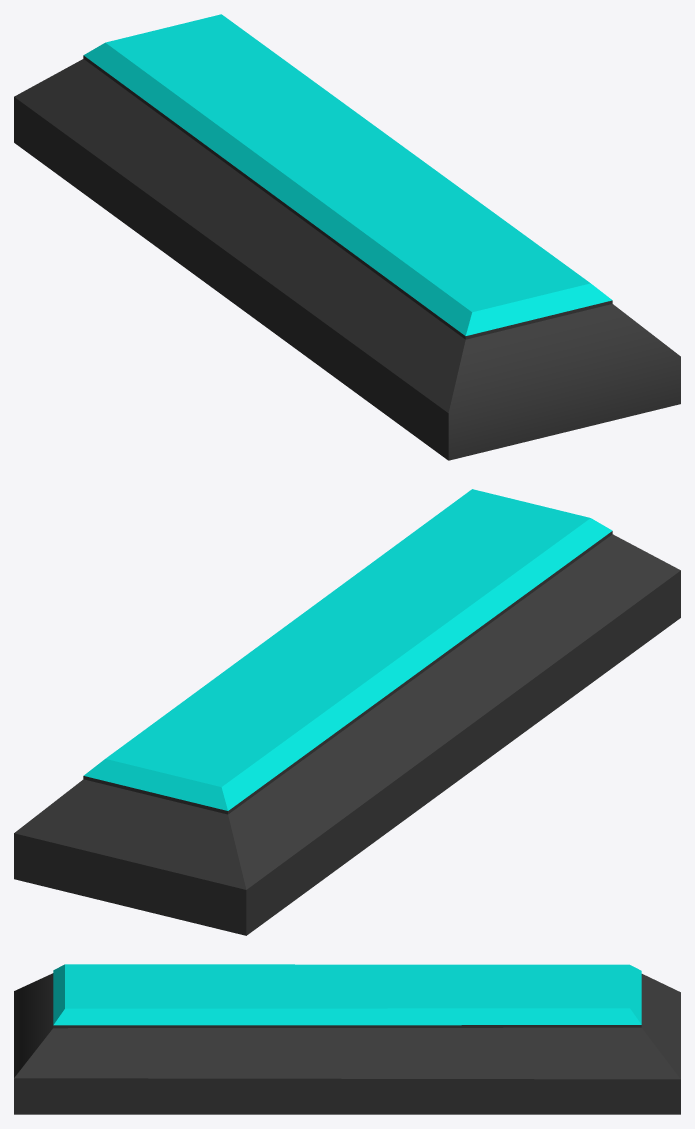
File: momentum_lamp.fbx
The picture shows the model from 3 angles, top to bottom: view 1: azimuth 30°, elevation 25°; view 2: azimuth 150°, elevation 25°; view 3: azimuth 270°, elevation 25°; orthographic projection. The views are drawn at different scales.
Parts seen in each view (by area): view 1: pCube1; view 2: pCube1; view 3: pCube1.
Part boxes in pixels (<box>): pCube1: <box>14,14,680,460</box>; pCube1: <box>14,489,680,935</box>; pCube1: <box>14,964,680,1114</box>.
Size of the model in its own units: 105 by 47.59 by 340.
